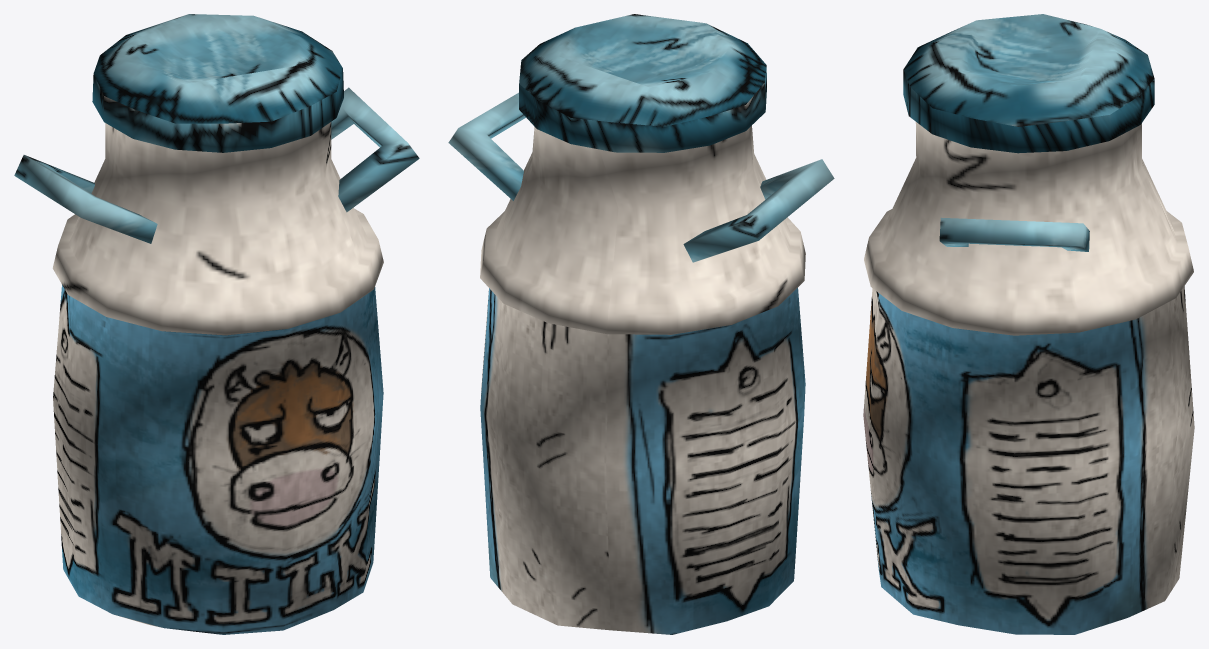
Rendered from canister.glb.
The picture shows the model from 3 angles, left to right: view 1: azimuth 30°, elevation 25°; view 2: azimuth 150°, elevation 25°; view 3: azimuth 270°, elevation 25°; orthographic projection.
Parts seen in each view (by area): view 1: milk_can; view 2: milk_can; view 3: milk_can.
Part boxes in pixels (x1,y1,x2,y2): milk_can: [14, 14, 419, 634]; milk_can: [448, 14, 834, 634]; milk_can: [863, 14, 1194, 634].
Size of the model in its own units: 0.3292 by 0.4975 by 0.2837.
1 material, 1 textured.
